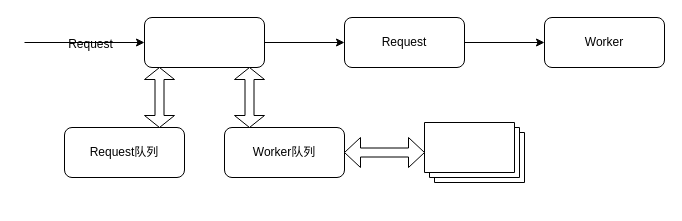
This 682x221 diagram has some shape labels left out. Here are the shapes that lost their labels. From the top down, the centre of each, then its label:
At [204,42]: "Scheduler".
At [474,152]: "Workder".
